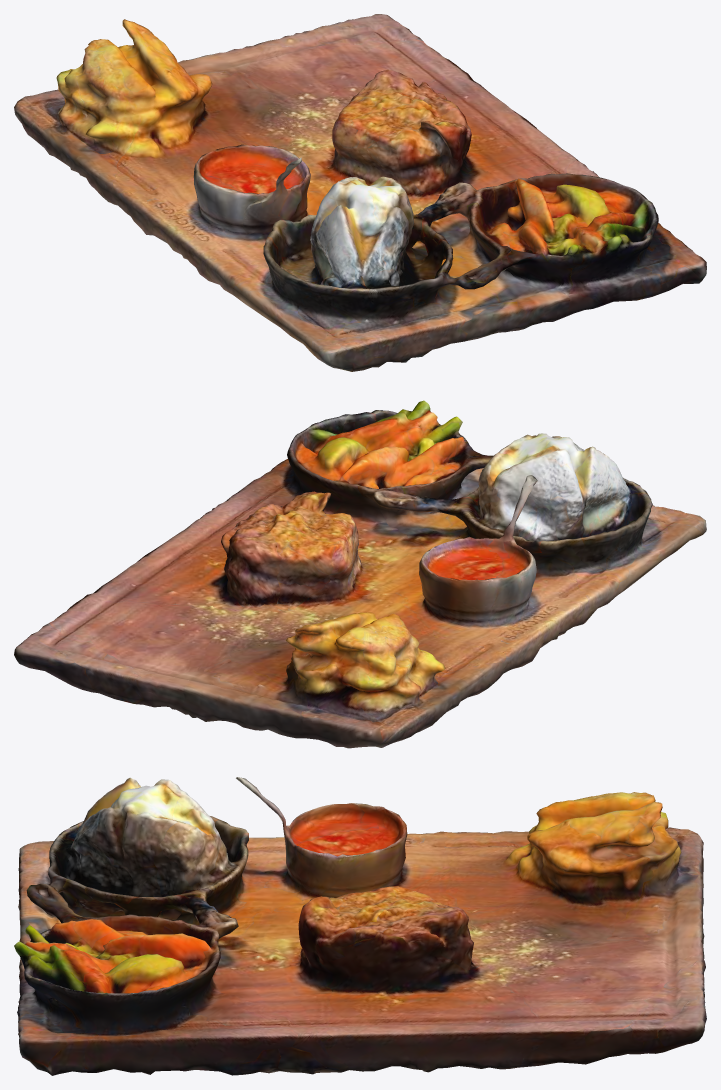
Rendered from gauchos-steak-main.glb.
3 renders of one model, top to bottom at view 1: azimuth 30°, elevation 25°; view 2: azimuth 150°, elevation 25°; view 3: azimuth 270°, elevation 25°, orthographic. The views are drawn at different scales.
Visible parts, largest first — view 1: dish; view 2: dish; view 3: dish.
Part boxes in pixels (x1,y1,x2,y2): dish: [14, 14, 706, 371]; dish: [14, 400, 706, 748]; dish: [14, 777, 706, 1075].
Bounding box in the file's own units: 0.2948 × 0.0944 × 0.4247.
Materials: 1 (1 with a texture image).
